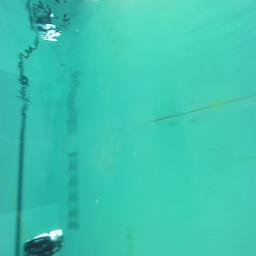Side: (24, 228, 65, 256)
